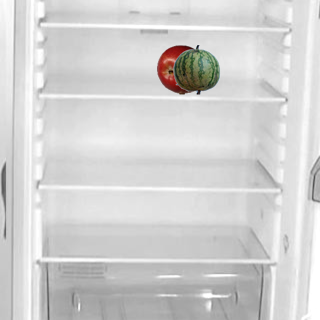Apple Braeburn: (156, 44, 206, 94)
Watermelon: (171, 44, 221, 94)
